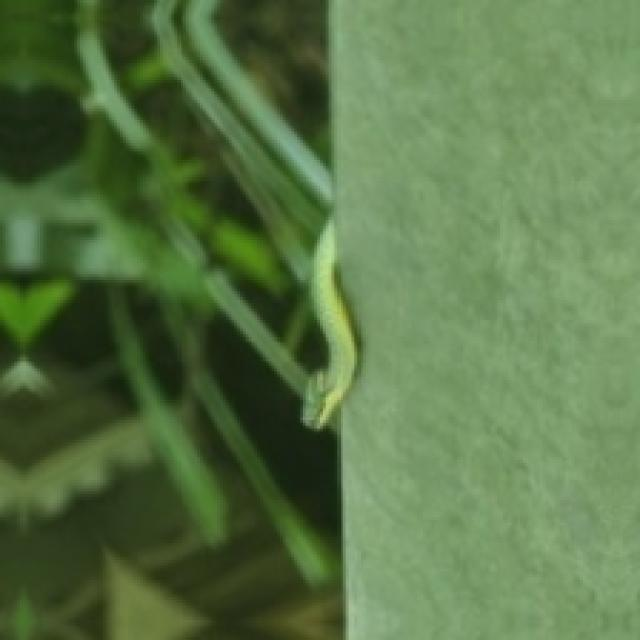paradise tree snake: (151, 0, 354, 426), (303, 217, 354, 426)
